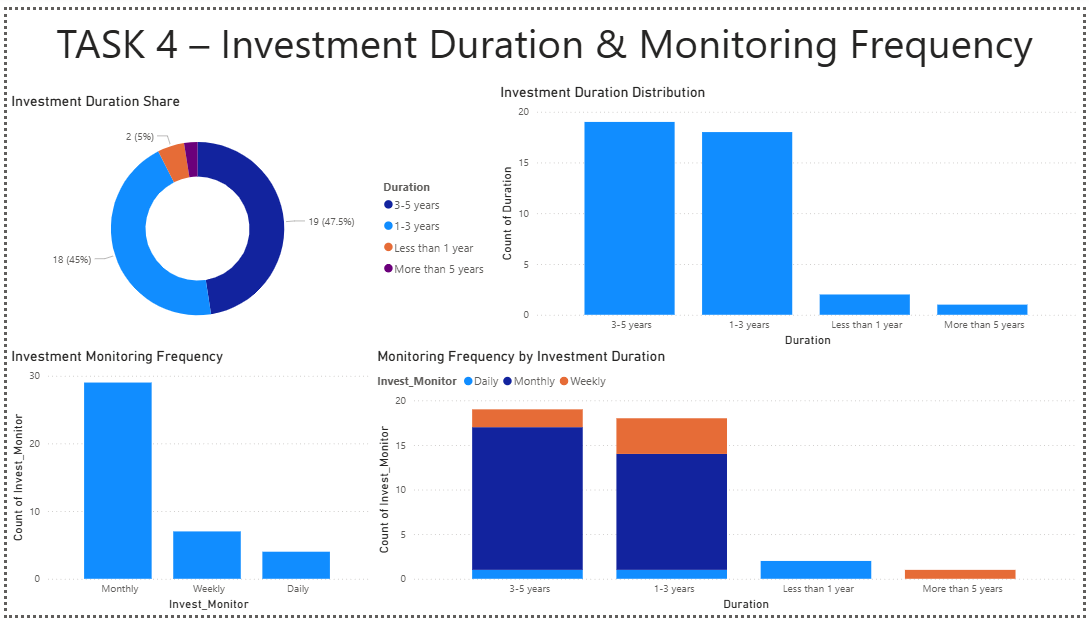

The page's visual inventory and layout, read from the dashboard file:
{"tool":"powerbi","page":{"name":"Duration & Monitoring","canvas":[1280,720],"ordinal":3},"visuals":[{"type":"textbox","box":[0,0,1280,88],"z":0},{"type":"clusteredColumnChart","title":"Investment Duration Distribution","fields":{"Category":["Data_set 2 (1).Duration"],"Y":["CountNonNull(Data_set 2 (1).Duration)"]},"box":[582,88,698,318],"z":1000},{"type":"clusteredColumnChart","title":"Investment Monitoring Frequency","fields":{"Category":["Data_set 2 (1).Invest_Monitor"],"Y":["CountNonNull(Data_set 2 (1).Invest_Monitor)"]},"box":[0,402,436,318],"z":2000},{"type":"columnChart","title":"Monitoring Frequency by Investment Duration","fields":{"Y":["CountNonNull(Data_set 2 (1).Invest_Monitor)"],"Category":["Data_set 2 (1).Duration"],"Series":["Data_set 2 (1).Invest_Monitor"]},"box":[436,402,844,318],"z":3000},{"type":"donutChart","title":"Investment Duration Share","fields":{"Category":["Data_set 2 (1).Duration"],"Y":["CountNonNull(Data_set 2 (1).Duration)"]},"box":[0,98,582,304],"z":4000}]}

Visuals, with their boxes in screenshot pixels (x1, y1, x2, y2), scaled from the page's 1280x720 canvas onto the 1089x619 screenshot:
textbox: Rect(0, 0, 1088, 76)
"Investment Duration Distribution" clusteredColumnChart: Rect(495, 76, 1088, 349)
"Investment Monitoring Frequency" clusteredColumnChart: Rect(0, 346, 371, 618)
"Monitoring Frequency by Investment Duration" columnChart: Rect(371, 346, 1088, 618)
"Investment Duration Share" donutChart: Rect(0, 84, 495, 346)
